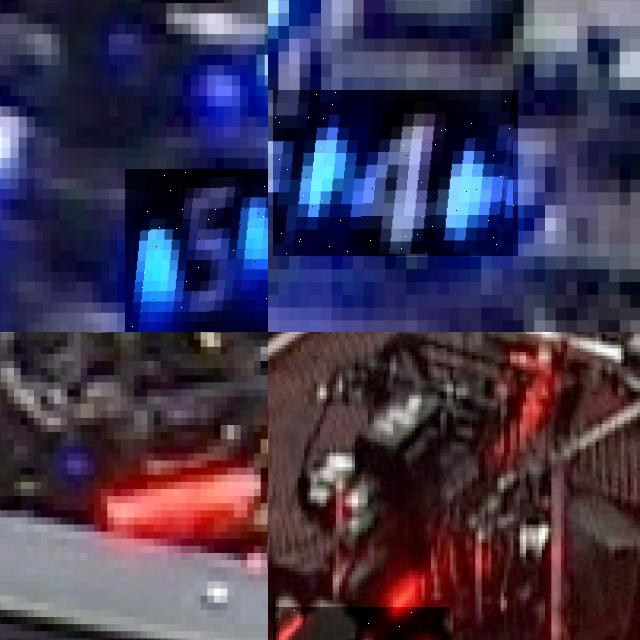B4: (273, 90, 518, 256)
B5: (125, 168, 268, 332)
R1: (272, 607, 450, 640)
